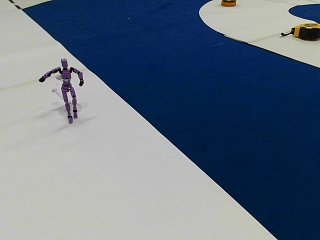pedestrian: (38, 58, 84, 121)
